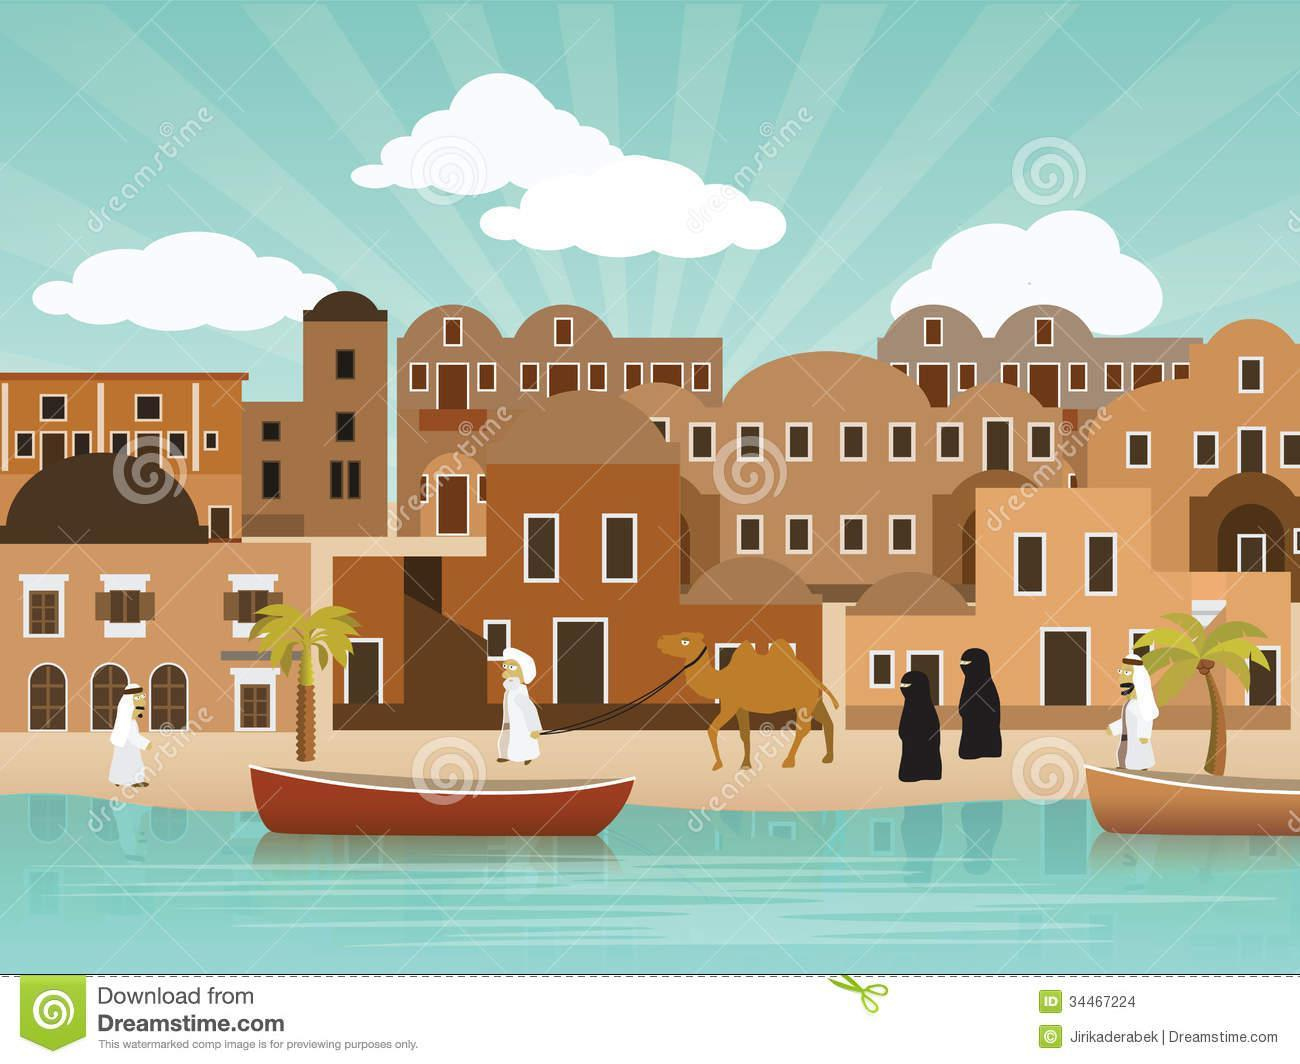boat: (244, 756, 635, 842), (1080, 761, 1300, 842)
person: (486, 644, 553, 765), (1106, 652, 1167, 775), (103, 679, 163, 792)
